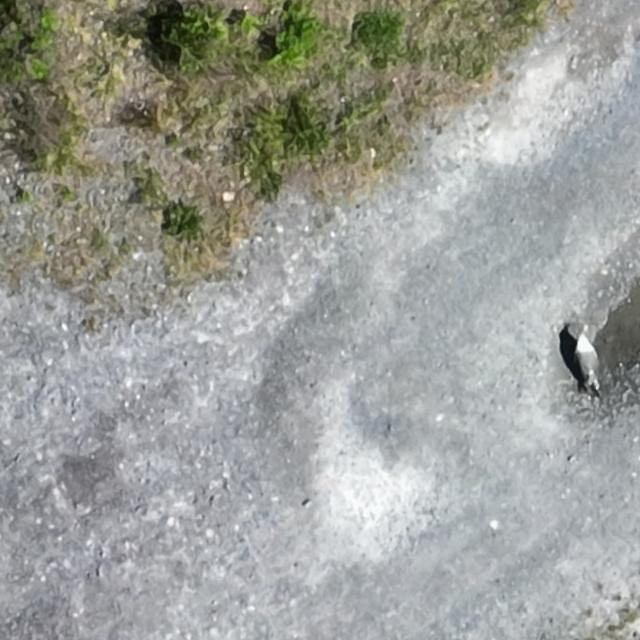umineko: (578, 340, 598, 386)
